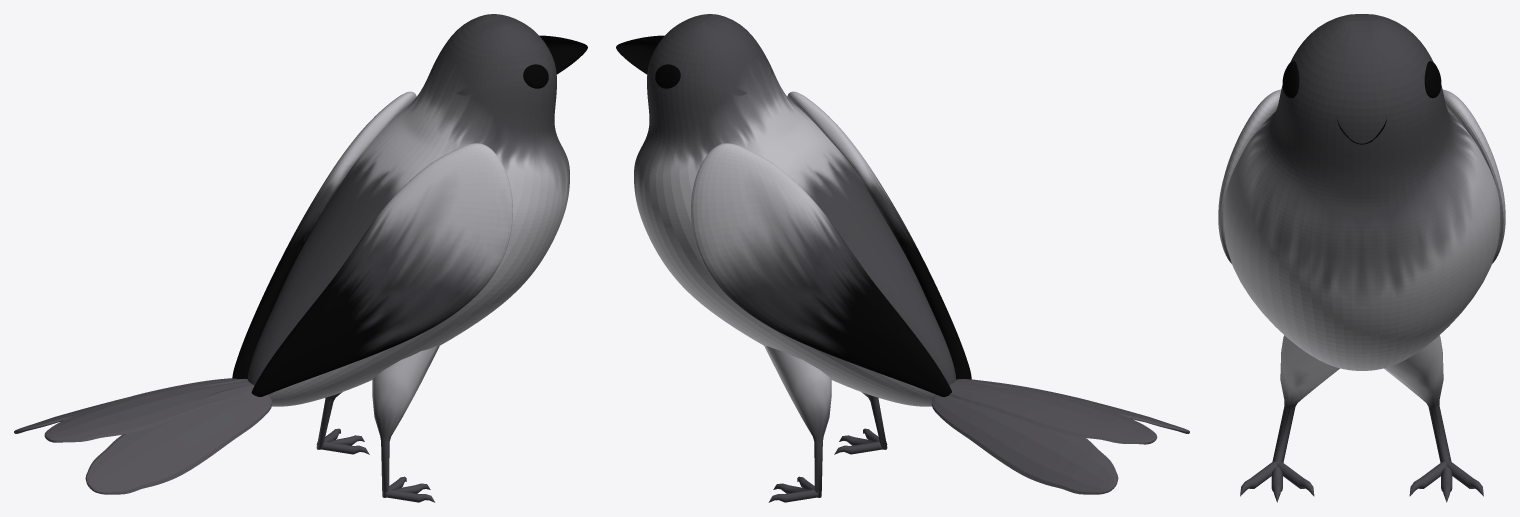
File: Qarg'a.fbx
3 renders of one model, left to right at view 1: azimuth 30°, elevation 25°; view 2: azimuth 150°, elevation 25°; view 3: azimuth 270°, elevation 25°, orthographic. The views are drawn at different scales.
Visible parts, largest first — view 1: Plane, Plane.001, Circle.001, Circle, Plane.005, Plane.003; view 2: Plane, Plane.001, Circle.001, Circle, Plane.005, Plane.003; view 3: Plane, Plane.005, Plane.001, Circle.002.
Part boxes in pixels (<box>): Plane: <box>247,14,569,406</box>; Plane.001: <box>232,91,512,396</box>; Circle.001: <box>14,379,272,494</box>; Circle: <box>44,378,254,442</box>; Plane.005: <box>316,346,439,502</box>; Plane.003: <box>539,35,587,74</box>; Plane: <box>634,14,956,406</box>; Plane.001: <box>691,91,971,396</box>; Circle.001: <box>931,379,1189,494</box>; Circle: <box>949,379,1157,444</box>; Plane.005: <box>764,346,887,502</box>; Plane.003: <box>616,35,664,74</box>; Plane: <box>1223,14,1500,370</box>; Plane.005: <box>1240,335,1483,502</box>; Plane.001: <box>1218,89,1505,263</box>; Circle.002: <box>1282,61,1441,98</box>.
Bounding box in the file's own units: 0.1427 × 0.1066 × 0.051.
Materials: 6 (6 with a texture image).
